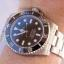watch: (3, 6, 58, 58)
